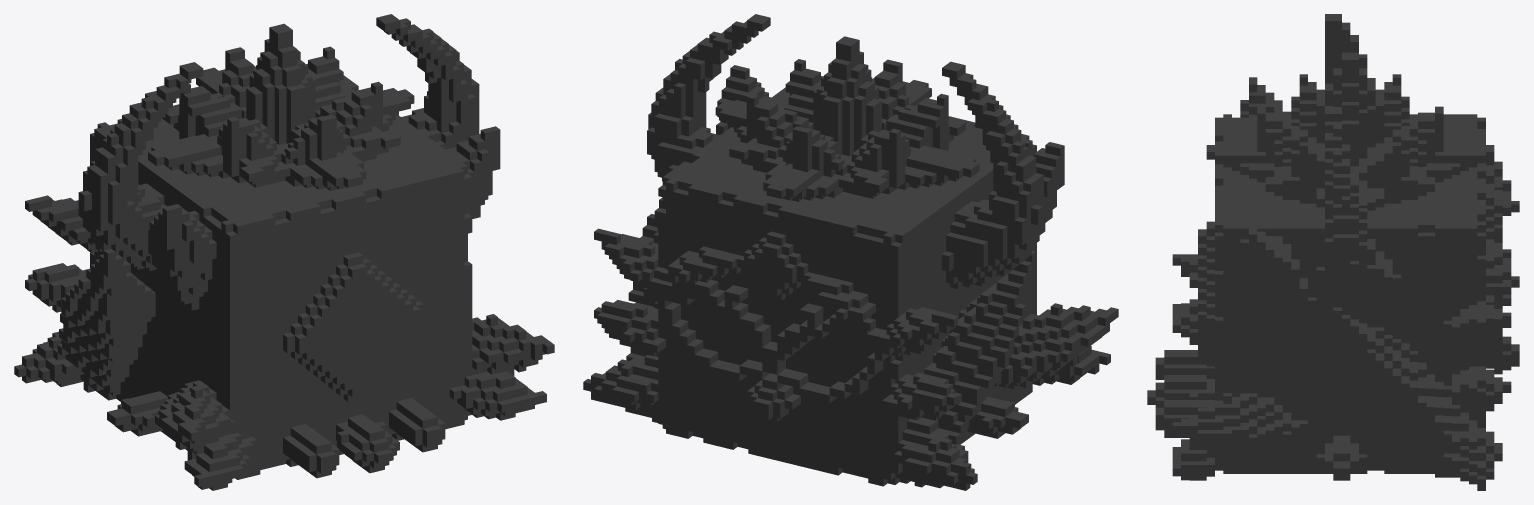
File: EmeraldCrystalBlock (1).glb
3 views of the same model, side by side, from view 1: azimuth 30°, elevation 25°; view 2: azimuth 150°, elevation 25°; view 3: azimuth 270°, elevation 25° (orthographic). The views are drawn at different scales.
Visible parts, largest first — view 1: # Made with Prisma3D; view 2: # Made with Prisma3D; view 3: # Made with Prisma3D.
Boxes of the visible parts, <box> form: # Made with Prisma3D: <box>14,14,554,490</box>; # Made with Prisma3D: <box>583,14,1118,490</box>; # Made with Prisma3D: <box>1147,14,1519,490</box>.
Bounding box in the file's own units: 9.1 × 8.57 × 7.7.
Materials: 1 (1 with a texture image).
